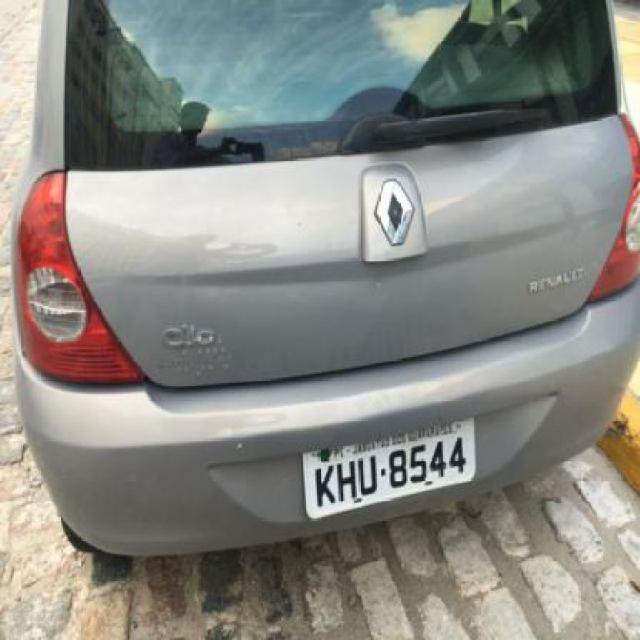old_plate: (297, 414, 482, 526)
